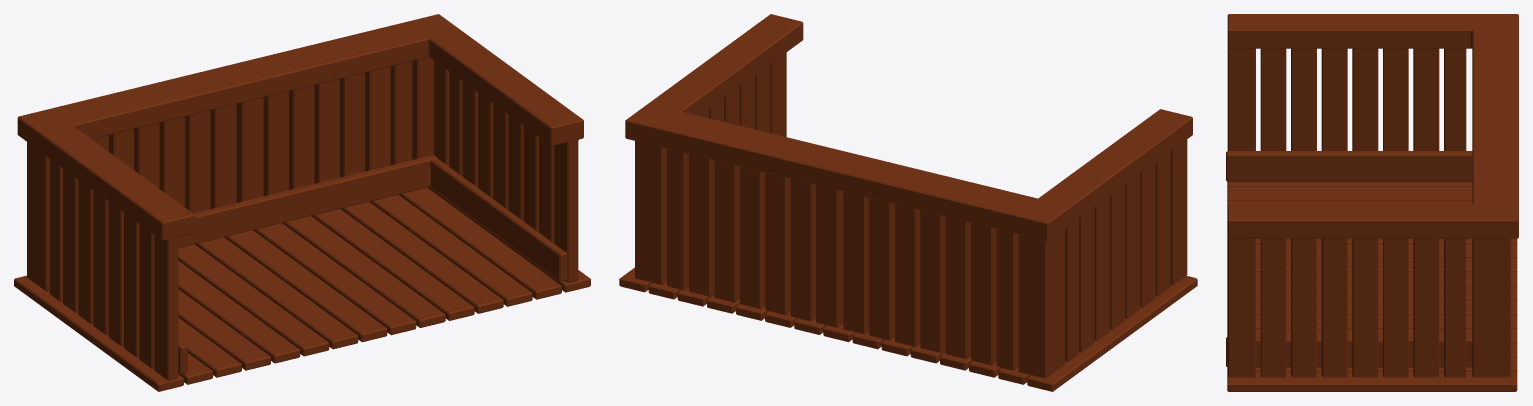
File: Balcony.fbx
3 renders of one model, left to right at view 1: azimuth 30°, elevation 25°; view 2: azimuth 150°, elevation 25°; view 3: azimuth 270°, elevation 25°, orthographic.
Parts seen in each view (by area): view 1: Balcony; view 2: Balcony; view 3: Balcony.
Part boxes in pixels (<box>): Balcony: <box>14,14,590,391</box>; Balcony: <box>619,14,1197,391</box>; Balcony: <box>1226,14,1518,391</box>.
Bounding box in the file's own units: 802 × 298 × 468.
